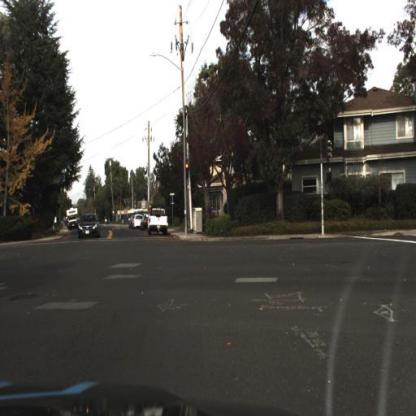car: (73, 210, 102, 240), (148, 205, 173, 239), (147, 204, 171, 233), (78, 211, 101, 236)
trafficLight-Red: (184, 155, 192, 179), (185, 157, 191, 184)
truck: (66, 206, 82, 232)
